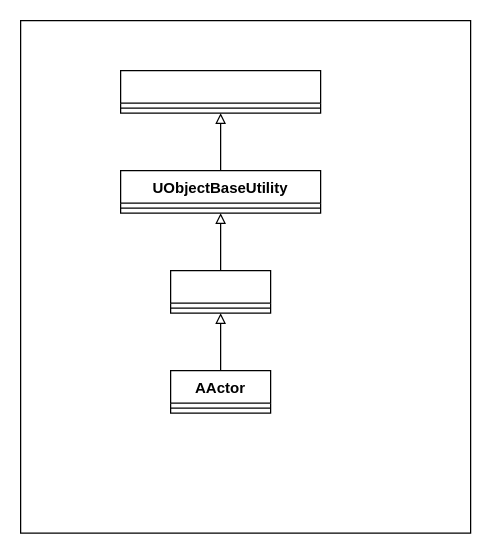
This 491x554 diagram has some shape labels left out. The centre of each missing label's shape, as x and y in pixels:
"UObject" belongs at (x=220, y=291).
"UObjectBase" belongs at (x=220, y=91).
